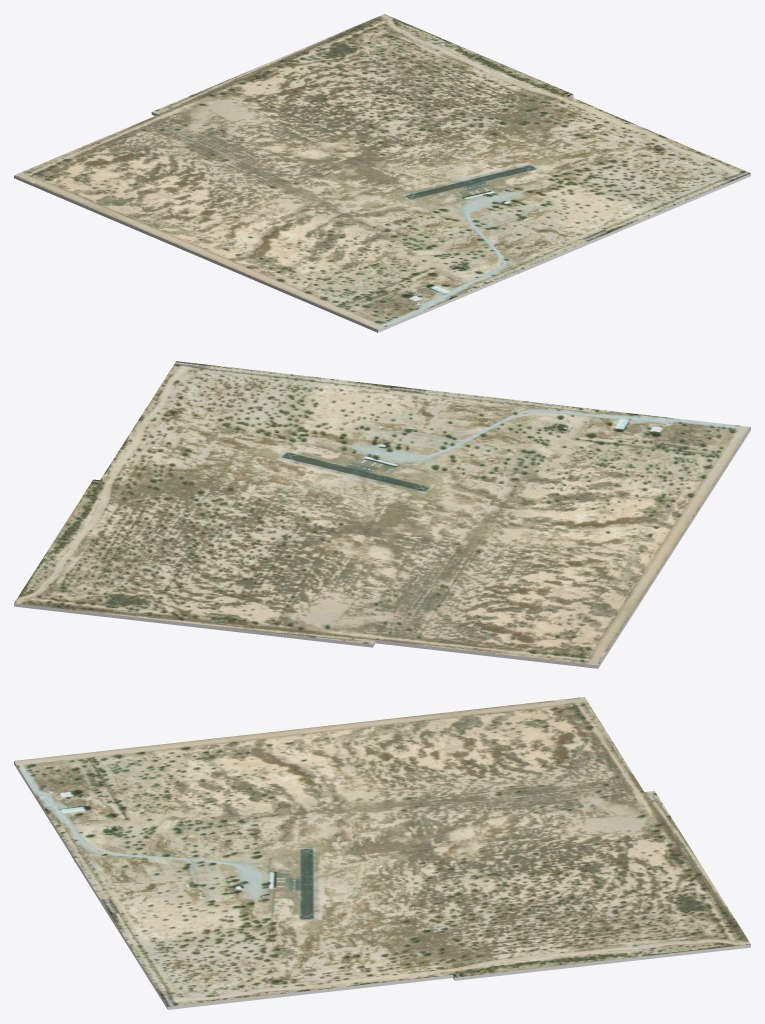
Rendered from Timpa.dae.
3 renders of one model, top to bottom at view 1: azimuth 30°, elevation 25°; view 2: azimuth 150°, elevation 25°; view 3: azimuth 270°, elevation 25°, orthographic. The views are drawn at different scales.
Visible parts, largest first — view 1: SketchUp (×5); view 2: SketchUp (×5); view 3: SketchUp (×5).
Part boxes in pixels (x1,y1,x2,y2): SketchUp (×5): (14,14,750,332); SketchUp (×5): (14,361,750,668); SketchUp (×5): (14,697,750,1009).
Bounding box in the file's own units: 39553 × 39779 × 197.
5 materials, 4 textured.
